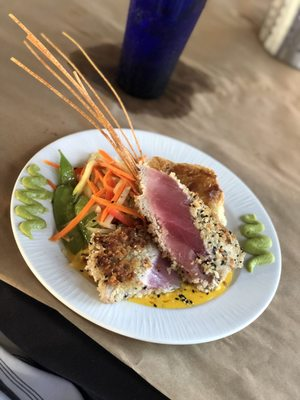burger: (9, 11, 145, 185), (8, 12, 142, 135)
pizza: (116, 0, 208, 99)
